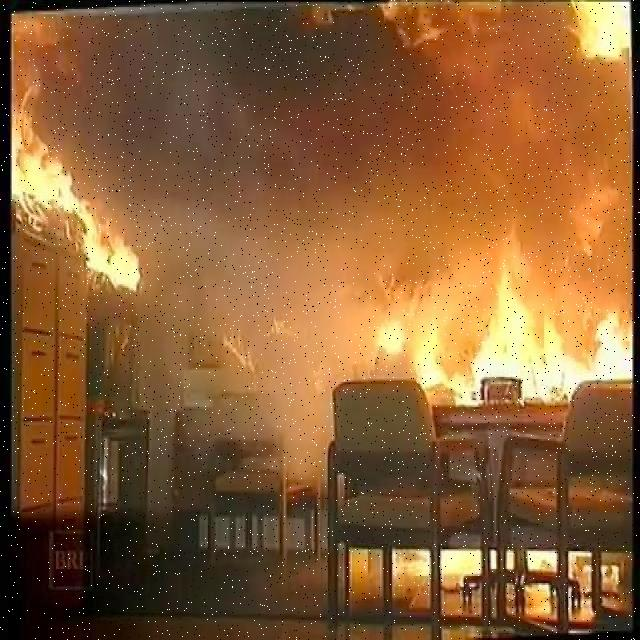fire: (363, 284, 640, 423), (8, 94, 144, 302)
